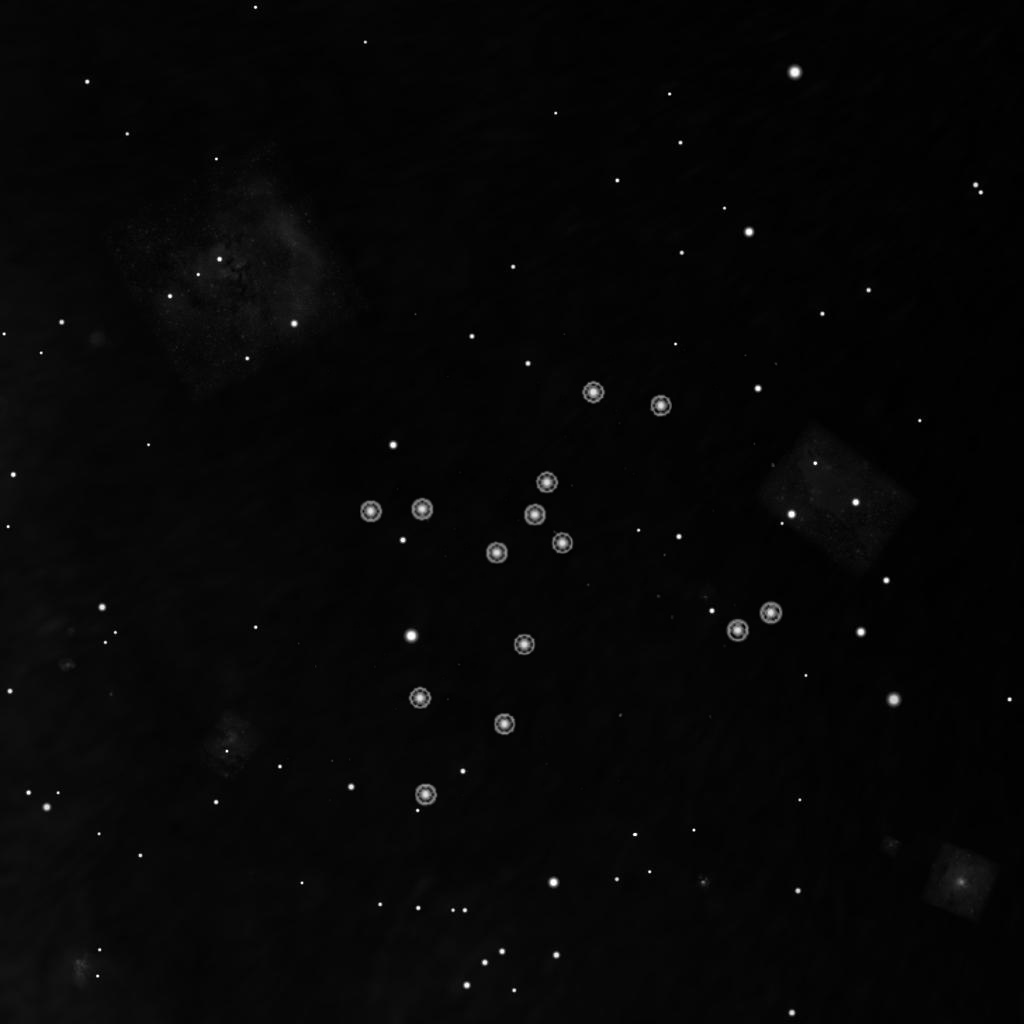canis_major: (481, 375, 675, 571)
